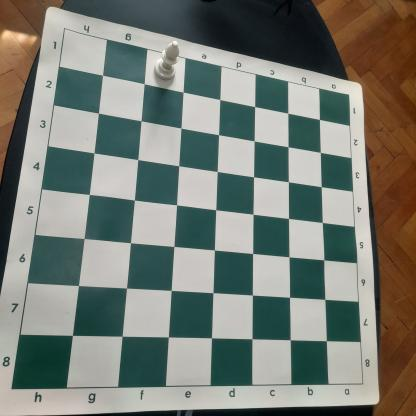white-bishop: (153, 40, 180, 82)
